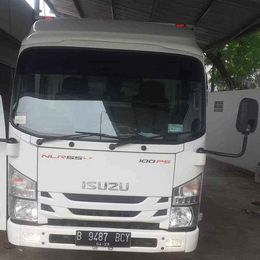plate: (74, 227, 131, 247)
